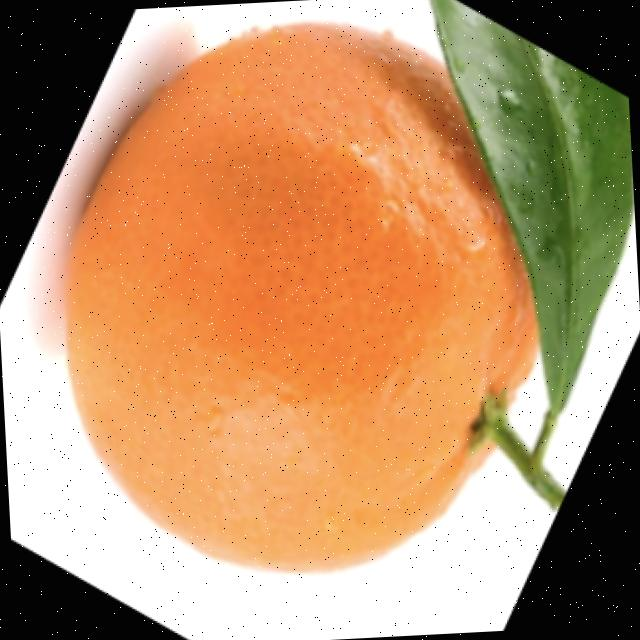orange: (44, 14, 578, 588)
